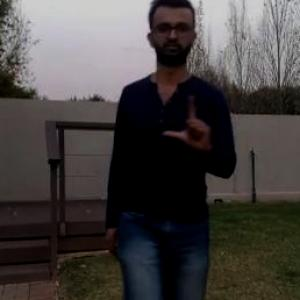land_hand: (160, 86, 224, 152)
